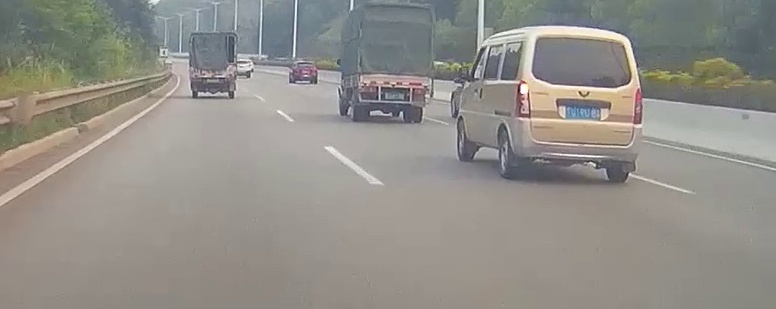L_light: (515, 80, 530, 119), (361, 86, 377, 93), (191, 78, 202, 81)
R_light: (632, 88, 642, 124), (412, 88, 427, 94), (223, 78, 234, 82)
T_light: (572, 38, 593, 43), (386, 75, 402, 80), (206, 68, 217, 72)
day-left: (514, 26, 643, 181)
day-no: (355, 1, 435, 123), (189, 31, 237, 99)
